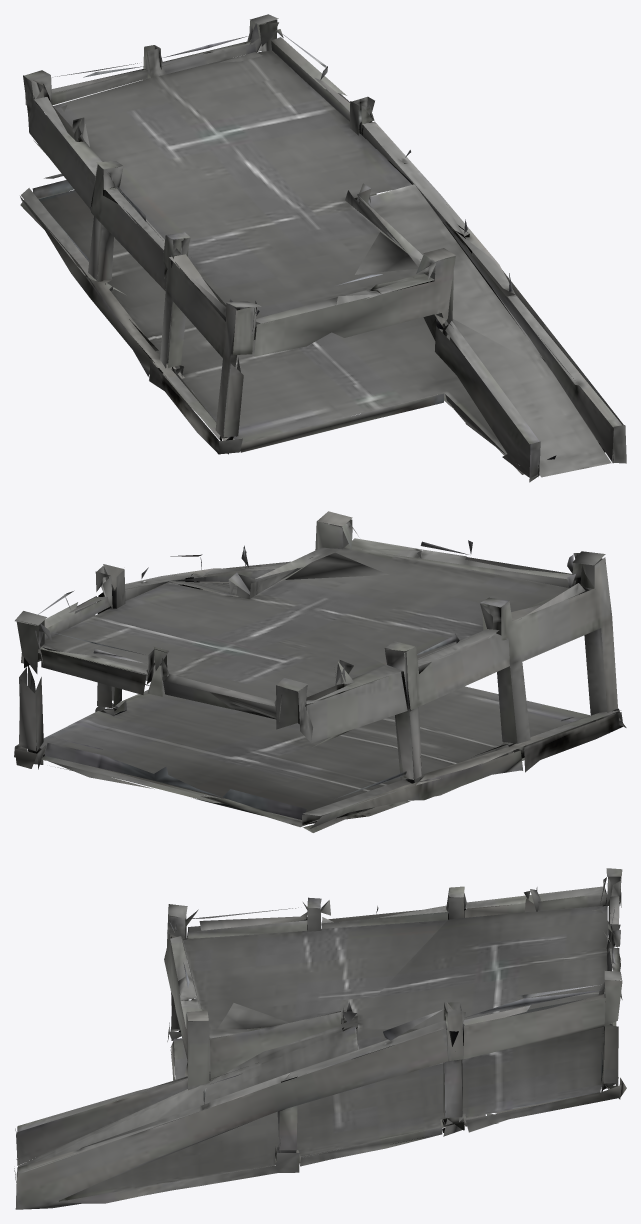
Rendered from drift_parkhaus_lo.glb.
3 renders of one model, top to bottom at view 1: azimuth 30°, elevation 25°; view 2: azimuth 150°, elevation 25°; view 3: azimuth 270°, elevation 25°, orthographic. The views are drawn at different scales.
Visible parts, largest first — view 1: Prop; view 2: Prop; view 3: Prop.
Boxes of the visible parts, x1,y1,x2,y2 form: Prop: (20,14,626,482); Prop: (14,511,626,832); Prop: (14,868,626,1209).
Size of the model in its own units: 1.55 by 0.9995 by 2.6.
1 material, 1 textured.
